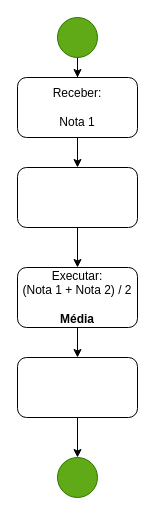
Some shapes in this 155 by 515 pixel diagram are drawn without their labels. Each missing label, with the centre of its shape:
"Exibir: Média" goes at (77,387).
"Receber: Nota 2" goes at (77,197).
